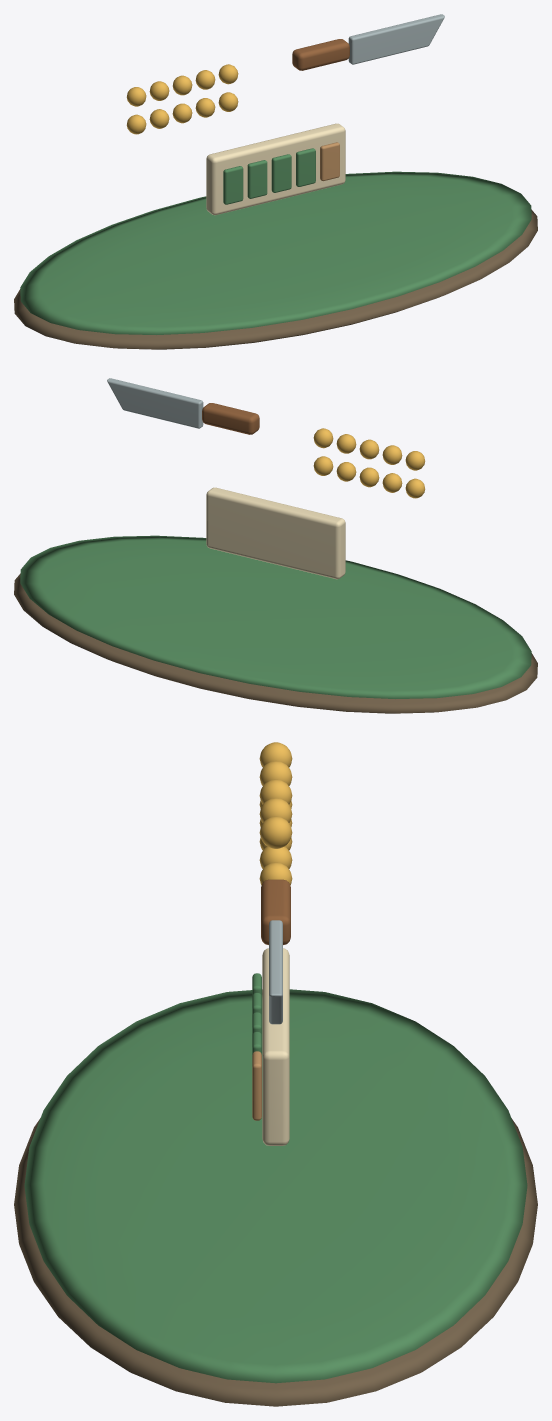
File: complete-second-ten-divided-very.glb
The picture shows the model from 3 angles, top to bottom: view 1: azimuth 30°, elevation 25°; view 2: azimuth 150°, elevation 25°; view 3: azimuth 270°, elevation 25°; orthographic projection. The views are drawn at different scales.
Visible parts, largest first — view 1: complete-second-ten-divided-very_surface_01, complete-second-ten-divided-very_surface_00, complete-second-ten-divided-very_surface_05, complete-second-ten-divided-very_surface_02, complete-second-ten-divided-very_surface_04, complete-second-ten-divided-very_surface_03, complete-second-ten-divided-very_surface_06; view 2: complete-second-ten-divided-very_surface_01, complete-second-ten-divided-very_surface_05, complete-second-ten-divided-very_surface_00, complete-second-ten-divided-very_surface_02, complete-second-ten-divided-very_surface_04, complete-second-ten-divided-very_surface_03; view 3: complete-second-ten-divided-very_surface_01, complete-second-ten-divided-very_surface_00, complete-second-ten-divided-very_surface_05, complete-second-ten-divided-very_surface_02, complete-second-ten-divided-very_surface_03, complete-second-ten-divided-very_surface_04.
Boxes of the visible parts, left/top/right/bottom form: complete-second-ten-divided-very_surface_01: left=20, top=148, right=531, bottom=334; complete-second-ten-divided-very_surface_00: left=14, top=209, right=537, bottom=349; complete-second-ten-divided-very_surface_05: left=206, top=123, right=345, bottom=215; complete-second-ten-divided-very_surface_02: left=126, top=64, right=238, bottom=134; complete-second-ten-divided-very_surface_04: left=348, top=14, right=444, bottom=64; complete-second-ten-divided-very_surface_03: left=292, top=39, right=349, bottom=70; complete-second-ten-divided-very_surface_06: left=320, top=142, right=339, bottom=181; complete-second-ten-divided-very_surface_01: left=20, top=535, right=531, bottom=698; complete-second-ten-divided-very_surface_05: left=206, top=487, right=345, bottom=579; complete-second-ten-divided-very_surface_00: left=14, top=573, right=537, bottom=713; complete-second-ten-divided-very_surface_02: left=313, top=428, right=425, bottom=498; complete-second-ten-divided-very_surface_04: left=107, top=378, right=203, bottom=428; complete-second-ten-divided-very_surface_03: left=202, top=403, right=259, bottom=434; complete-second-ten-divided-very_surface_01: left=24, top=973, right=527, bottom=1383; complete-second-ten-divided-very_surface_00: left=14, top=1118, right=537, bottom=1406; complete-second-ten-divided-very_surface_05: left=262, top=948, right=289, bottom=1145; complete-second-ten-divided-very_surface_02: left=259, top=742, right=292, bottom=885; complete-second-ten-divided-very_surface_03: left=261, top=879, right=290, bottom=944; complete-second-ten-divided-very_surface_04: left=269, top=920, right=282, bottom=1024.
Size of the model in its own units: 4.56 by 1.97 by 2.5.
